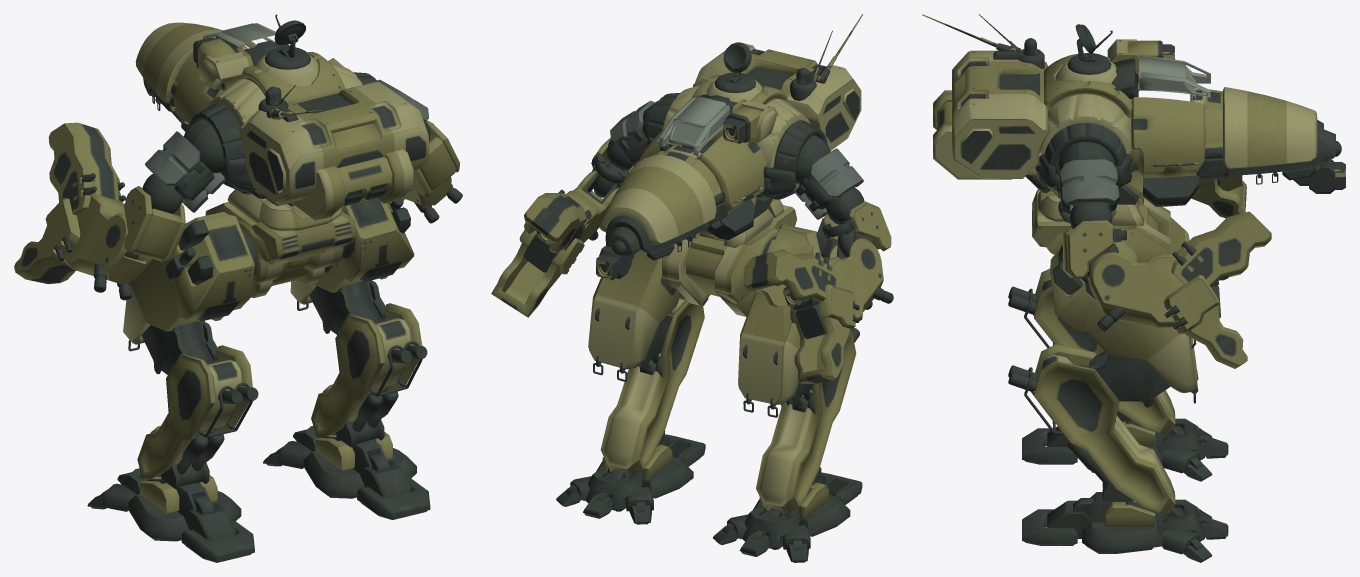
Rendered from Crab.glb.
The picture shows the model from 3 angles, left to right: view 1: azimuth 30°, elevation 25°; view 2: azimuth 150°, elevation 25°; view 3: azimuth 270°, elevation 25°; orthographic projection. The views are drawn at different scales.
Visible parts, largest first — view 1: CenterTorso_CoreAndPelvis, LeftArm_ForearmAndFist, LeftLeg_Shin, RightLeg_Shin, LeftLeg_Thigh, LeftArm_ShoulderAndUpperarm, LeftLeg_Foot, RightLeg_Foot, RightLeg_Thigh, LeftTorso_TorsoShell, RightArm_ShoulderAndUpperarm, Head_Weapon0 (+3 smaller); view 2: CenterTorso_CoreAndPelvis, LeftArm_ForearmAndFist, RightLeg_Shin, LeftTorso_TorsoShell, RightArm_ForearmAndFist, LeftLeg_Shin, LeftLeg_Thigh, RightLeg_Thigh, LeftArm_ShoulderAndUpperarm, LeftLeg_Foot, RightLeg_Foot, RightArm_ShoulderAndUpperarm (+4 smaller); view 3: CenterTorso_CoreAndPelvis, RightLeg_Shin, RightArm_ForearmAndFist, RightTorso_TorsoShell, RightLeg_Foot, RightLeg_Thigh, RightArm_ShoulderAndUpperarm, LeftLeg_Foot, LeftLeg_Shin, Head_CockpitFrame, LeftArm_ForearmAndFist, Head_Weapon0 (+1 smaller).
Boxes of the visible parts, <box> form: CenterTorso_CoreAndPelvis: <box>135,14,428,297</box>; LeftArm_ForearmAndFist: <box>14,122,152,300</box>; LeftLeg_Shin: <box>137,320,258,489</box>; RightLeg_Shin: <box>309,280,427,447</box>; LeftLeg_Thigh: <box>123,212,254,351</box>; LeftArm_ShoulderAndUpperarm: <box>124,119,225,263</box>; LeftLeg_Foot: <box>87,468,254,562</box>; RightLeg_Foot: <box>263,426,430,519</box>; RightLeg_Thigh: <box>290,198,414,310</box>; LeftTorso_TorsoShell: <box>169,60,267,198</box>; RightArm_ShoulderAndUpperarm: <box>377,79,459,196</box>; Head_Weapon0: <box>193,37,253,90</box>; CenterTorso_CoreAndPelvis: <box>599,14,862,316</box>; LeftArm_ForearmAndFist: <box>743,232,893,384</box>; RightLeg_Shin: <box>600,294,708,477</box>; LeftTorso_TorsoShell: <box>700,98,827,239</box>; RightArm_ForearmAndFist: <box>491,162,619,317</box>; LeftLeg_Shin: <box>756,327,859,514</box>; LeftLeg_Thigh: <box>738,218,837,417</box>; RightLeg_Thigh: <box>588,249,681,381</box>; LeftArm_ShoulderAndUpperarm: <box>793,135,891,257</box>; LeftLeg_Foot: <box>713,472,862,562</box>; RightLeg_Foot: <box>556,434,705,524</box>; RightArm_ShoulderAndUpperarm: <box>591,100,658,197</box>; CenterTorso_CoreAndPelvis: <box>922,14,1341,262</box>; RightLeg_Shin: <box>1008,344,1175,515</box>; RightArm_ForearmAndFist: <box>1088,211,1271,368</box>; RightTorso_TorsoShell: <box>1035,94,1227,206</box>; RightLeg_Foot: <box>1022,492,1228,562</box>; RightLeg_Thigh: <box>1050,240,1198,403</box>; RightArm_ShoulderAndUpperarm: <box>1056,141,1126,278</box>; LeftLeg_Foot: <box>1022,418,1228,481</box>; LeftLeg_Shin: <box>1008,268,1175,435</box>; Head_CockpitFrame: <box>1137,55,1210,100</box>; LeftArm_ForearmAndFist: <box>1191,175,1246,218</box>; Head_Weapon0: <box>1107,39,1174,82</box>.
Size of the model in its own units: 2.03 by 2.52 by 2.04.
Materials: 4 (2 with a texture image).
